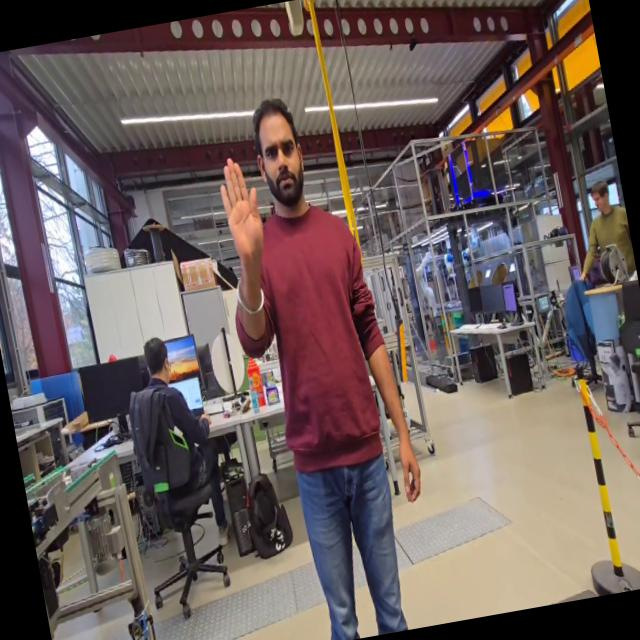open_palm: (210, 148, 280, 302)
